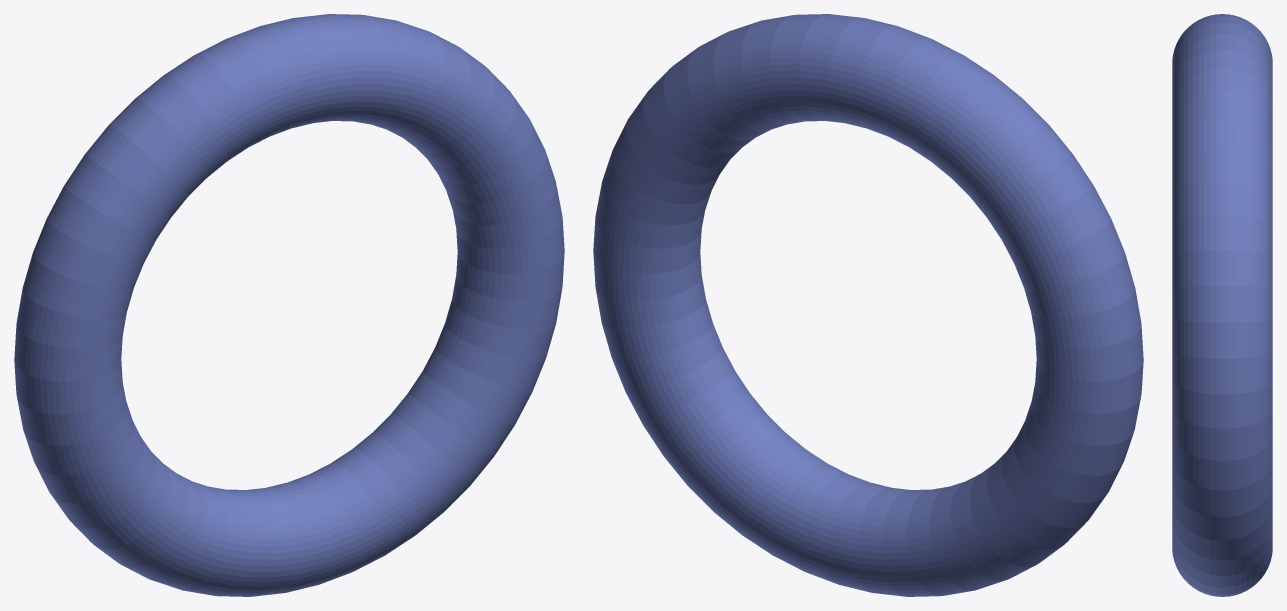
3 views of the same model, side by side, from view 1: azimuth 30°, elevation 25°; view 2: azimuth 150°, elevation 25°; view 3: azimuth 270°, elevation 25° (orthographic). The views are drawn at different scales.
Visible parts, largest first — view 1: world; view 2: world; view 3: world.
Boxes of the visible parts, x1=… form: world: x1=14, y1=14, x2=564, y2=596; world: x1=593, y1=14, x2=1143, y2=596; world: x1=1172, y1=14, x2=1272, y2=596.
Size of the model in its own units: 17.73 by 17.7 by 3.06.
